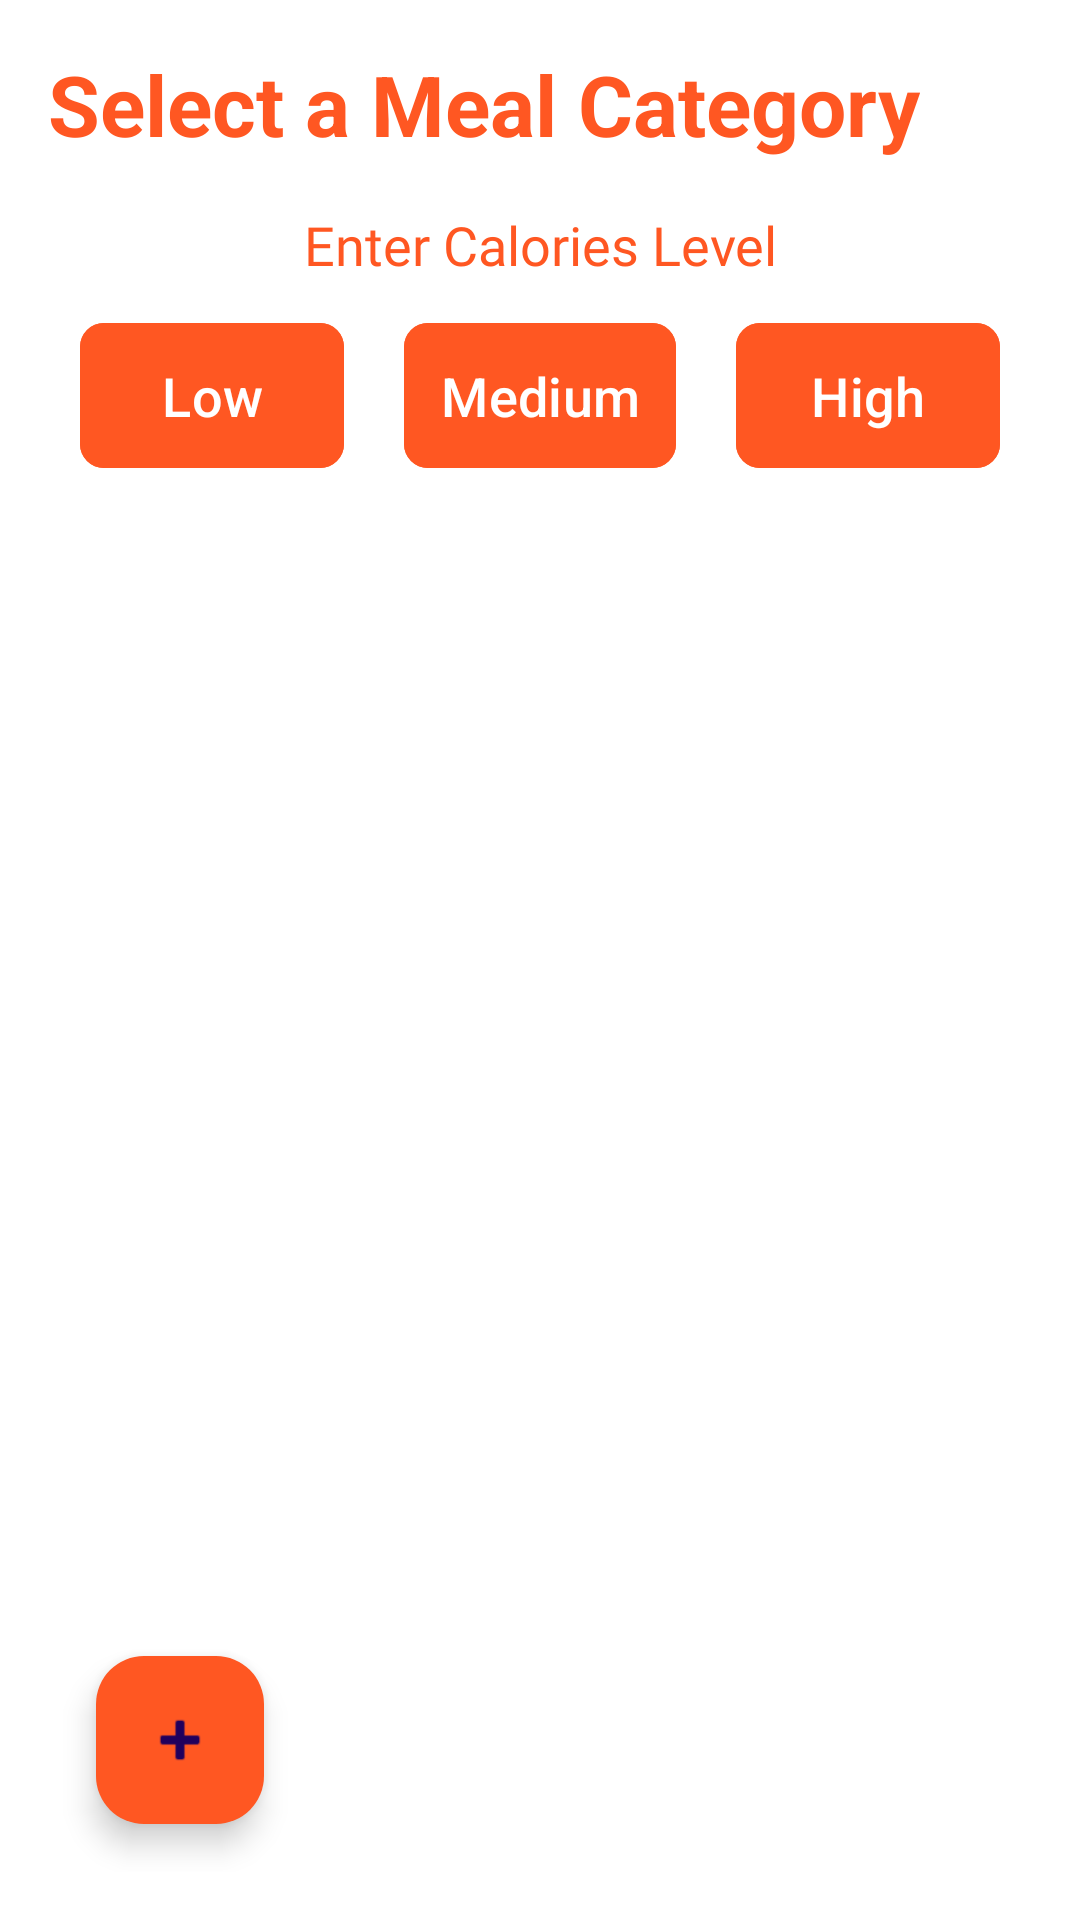

Icon bounding boxes for this 1080 x 1920 phone screenshot, format bbox(x1, y1, x2, y2):
Add exercise: bbox(96, 1656, 264, 1824)
